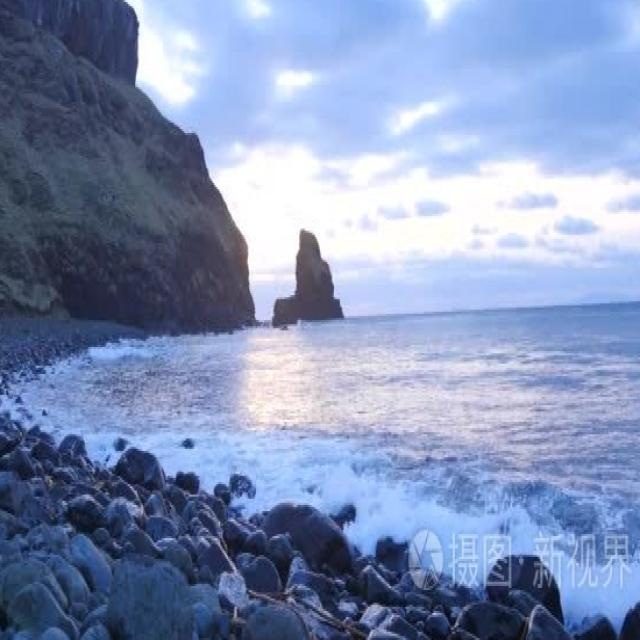reef: (195, 410, 356, 624), (268, 242, 354, 317)
